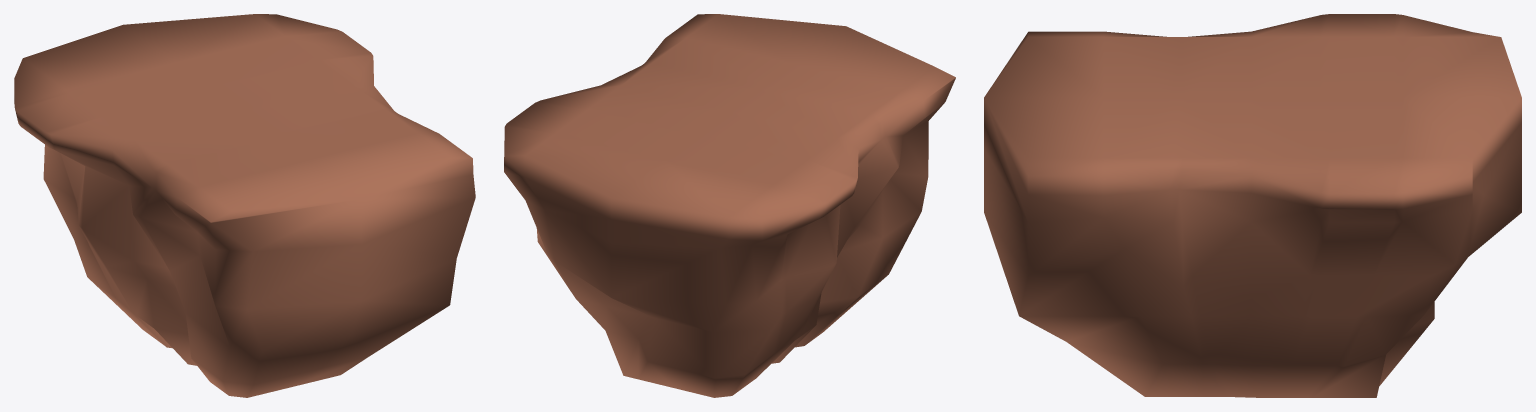
File: aerial_platform.FBX
The picture shows the model from 3 angles, left to right: view 1: azimuth 30°, elevation 25°; view 2: azimuth 150°, elevation 25°; view 3: azimuth 270°, elevation 25°; orthographic projection. The views are drawn at different scales.
Parts seen in each view (by area): view 1: Box014; view 2: Box014; view 3: Box014.
Part boxes in pixels (x1=…): Box014: x1=14, y1=14, x2=475, y2=397; Box014: x1=504, y1=14, x2=955, y2=397; Box014: x1=984, y1=14, x2=1521, y2=397.
Bounding box in the file's own units: 94.52 × 66.68 × 120.
